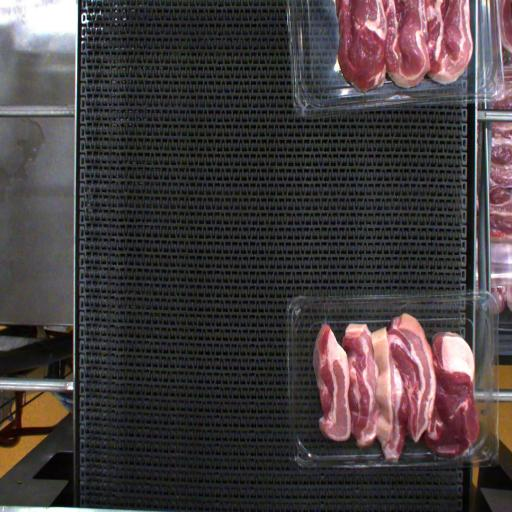twisted-meat: (366, 323, 412, 458)
